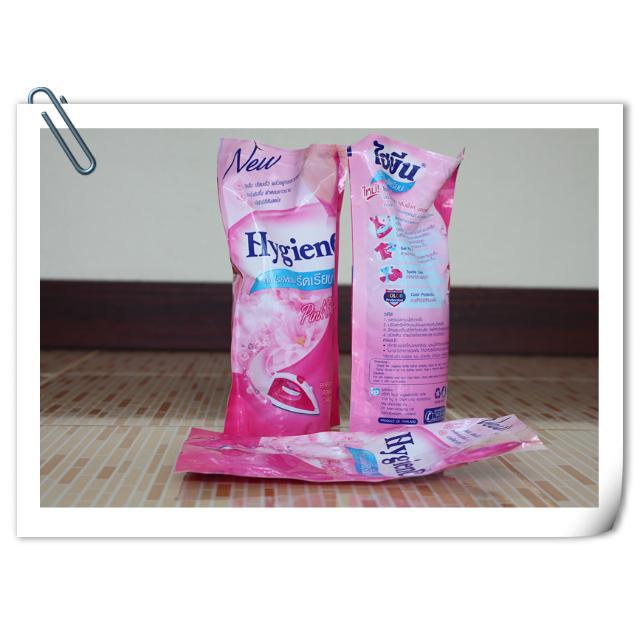Paquete de plastico: (215, 139, 348, 436), (348, 134, 466, 434), (170, 411, 547, 481)
